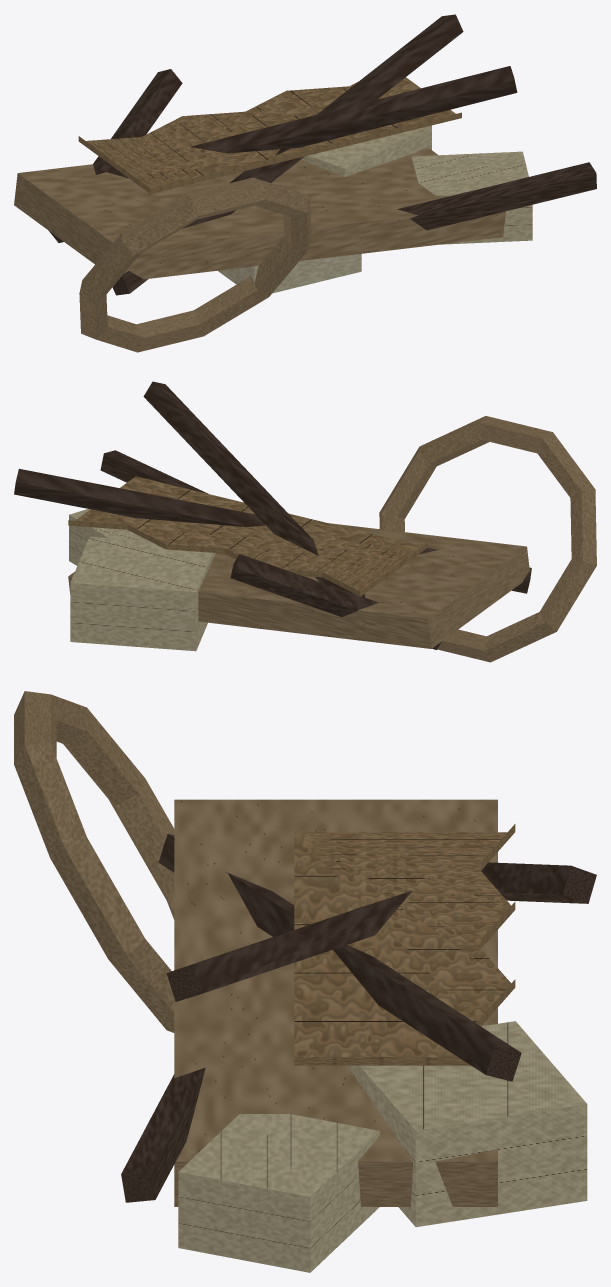
Rendered from destroyed_caravan.glb.
The picture shows the model from 3 angles, top to bottom: view 1: azimuth 30°, elevation 25°; view 2: azimuth 150°, elevation 25°; view 3: azimuth 270°, elevation 25°; orthographic projection. The views are drawn at different scales.
Parts seen in each view (by area): view 1: destroyed_caravan; view 2: destroyed_caravan; view 3: destroyed_caravan.
Part boxes in pixels (box(x1,y1,x2,y2)): destroyed_caravan: box(14, 14, 596, 352); destroyed_caravan: box(14, 381, 596, 662); destroyed_caravan: box(14, 691, 596, 1272).
Bounding box in the file's own units: 2.42 × 0.8899 × 1.53.
1 material, 1 textured.
